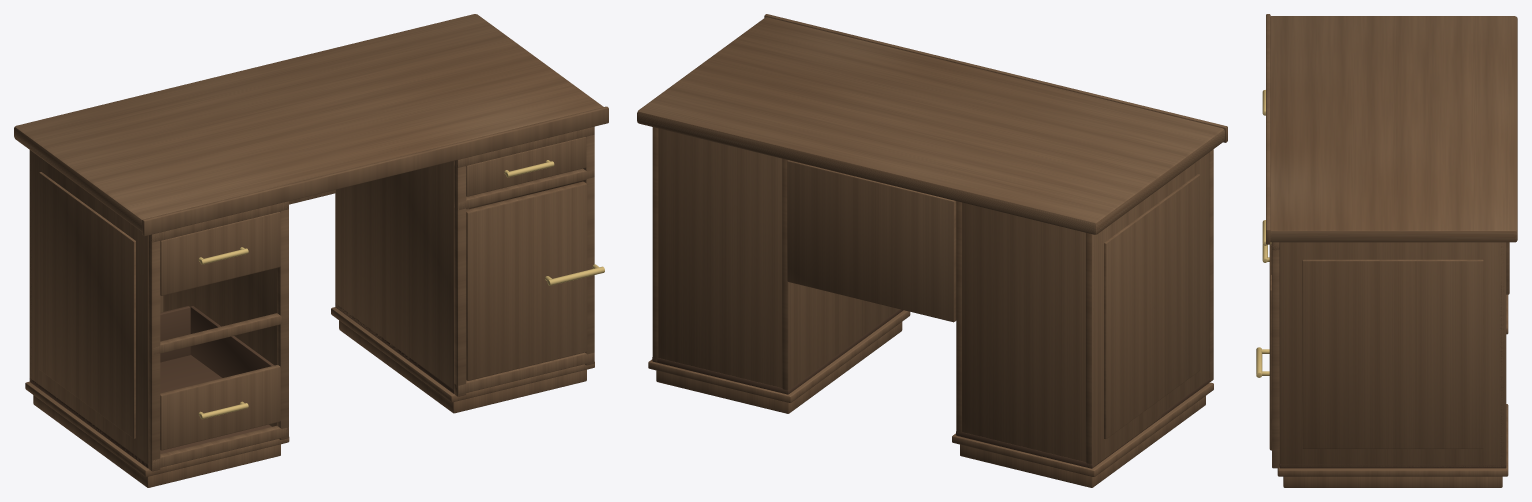
File: desk.glb
3 views of the same model, side by side, from view 1: azimuth 30°, elevation 25°; view 2: azimuth 150°, elevation 25°; view 3: azimuth 270°, elevation 25° (orthographic). The views are drawn at different scales.
Parts seen in each view (by area): view 1: desk_body, Drawer_L2, Drawer_L1, Drawer_RR; view 2: desk_body; view 3: desk_body.
Part boxes in pixels (x1,y1,x2,y2): desk_body: [14, 14, 608, 487]; Drawer_L2: [160, 306, 280, 450]; Drawer_L1: [160, 212, 280, 295]; Drawer_RR: [466, 137, 586, 196]; desk_body: [637, 14, 1227, 487]; desk_body: [1256, 14, 1517, 487].
Size of what is drawn, in the model's own units: 1.35 by 0.772 by 0.692.
Materials: 4 (1 with a texture image).
